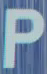Parking: (2, 3, 45, 69)
